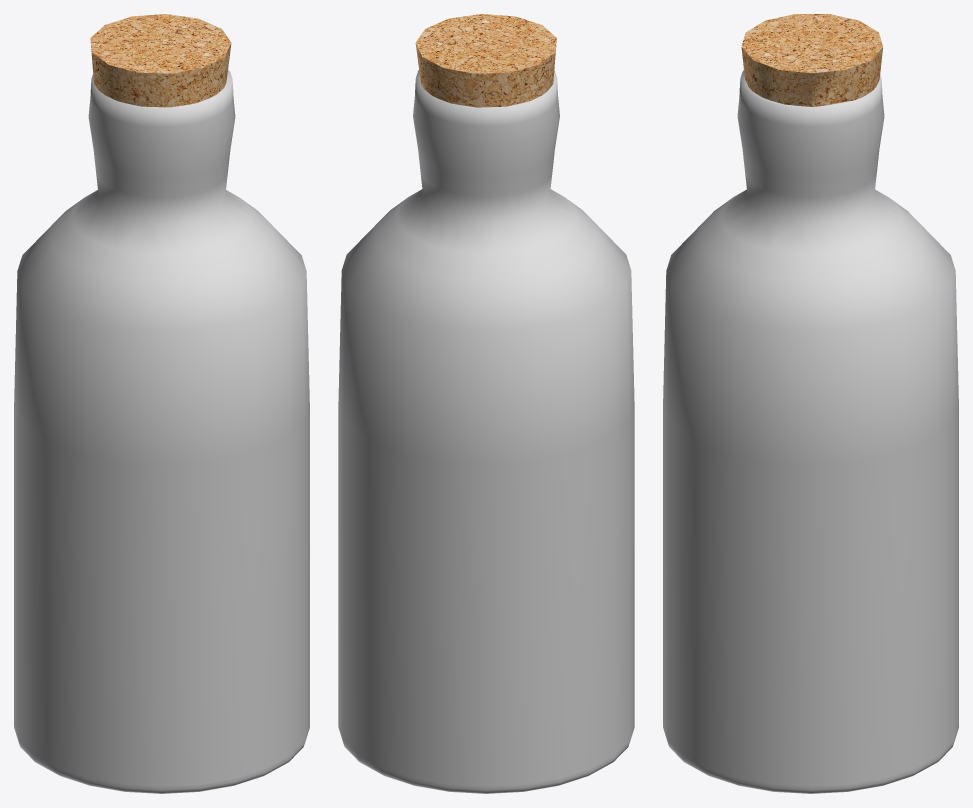
File: denier_double.glb
The picture shows the model from 3 angles, left to right: view 1: azimuth 30°, elevation 25°; view 2: azimuth 150°, elevation 25°; view 3: azimuth 270°, elevation 25°; orthographic projection.
Visible parts, largest first — view 1: Front, Cover; view 2: Front, Cover; view 3: Front, Cover.
Boxes of the visible parts, box(x1,y1,x2,y2) form: Front: box(14, 70, 309, 793); Cover: box(90, 14, 231, 107); Front: box(338, 70, 634, 793); Cover: box(415, 14, 556, 107); Front: box(663, 70, 958, 793); Cover: box(741, 14, 882, 106).
Size of the model in its own units: 0.1973 by 0.5072 by 0.1973.
Materials: 3 (1 with a texture image).
